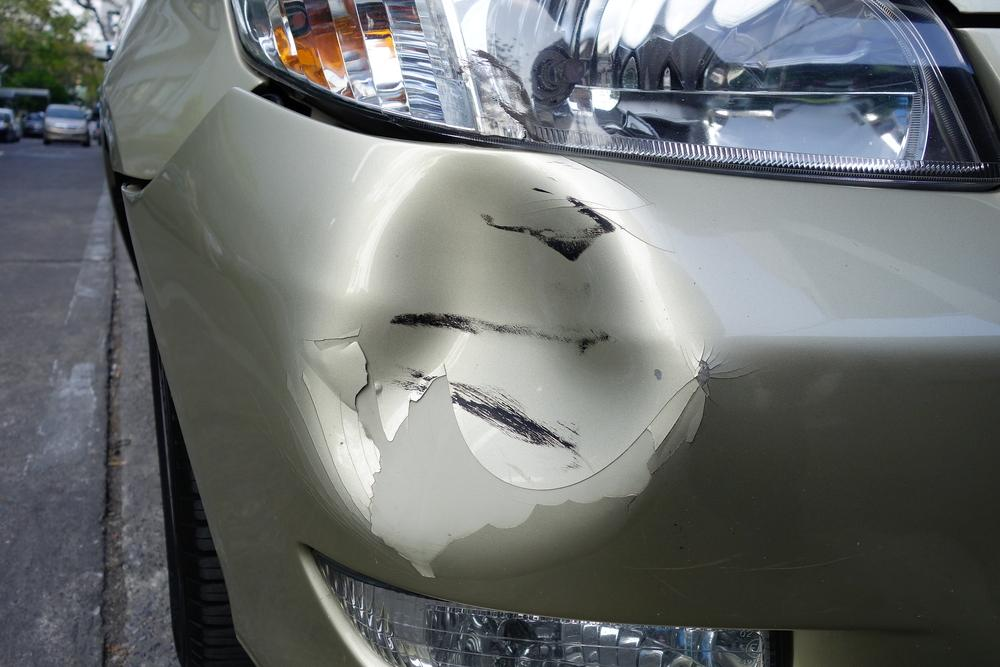dent: (308, 153, 692, 565)
